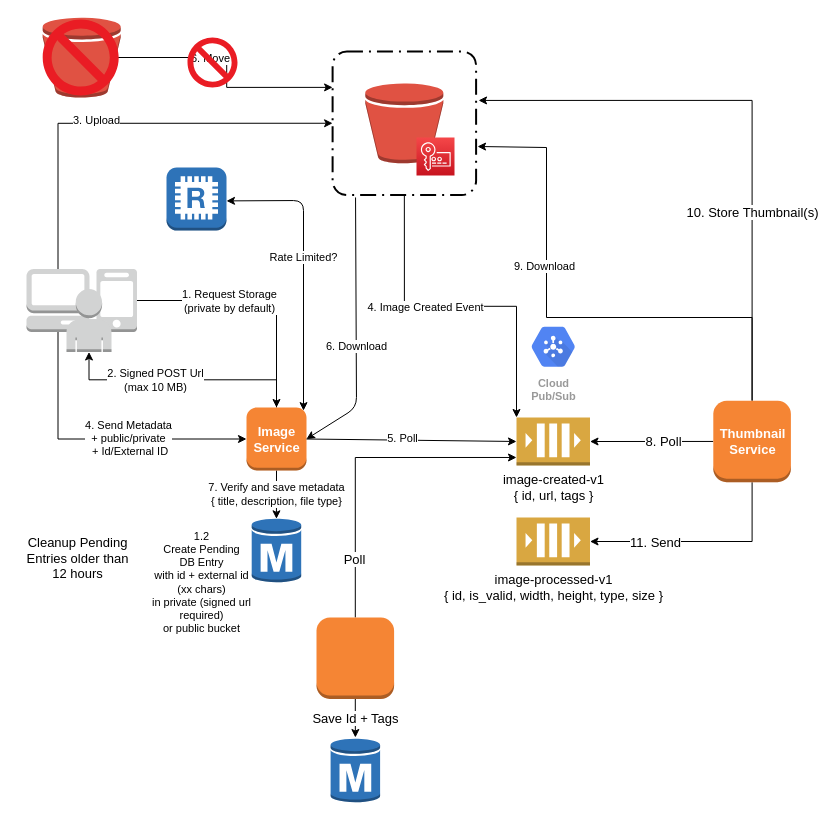
Image size: 836x821. Some labels were removed from this diagram. Here are the shapes that lost their labels. From the top down, the box of each, then its label:
(42, 16, 121, 98): tmp (1 day max)
(364, 82, 443, 163): img
(316, 616, 394, 699): Search Service
